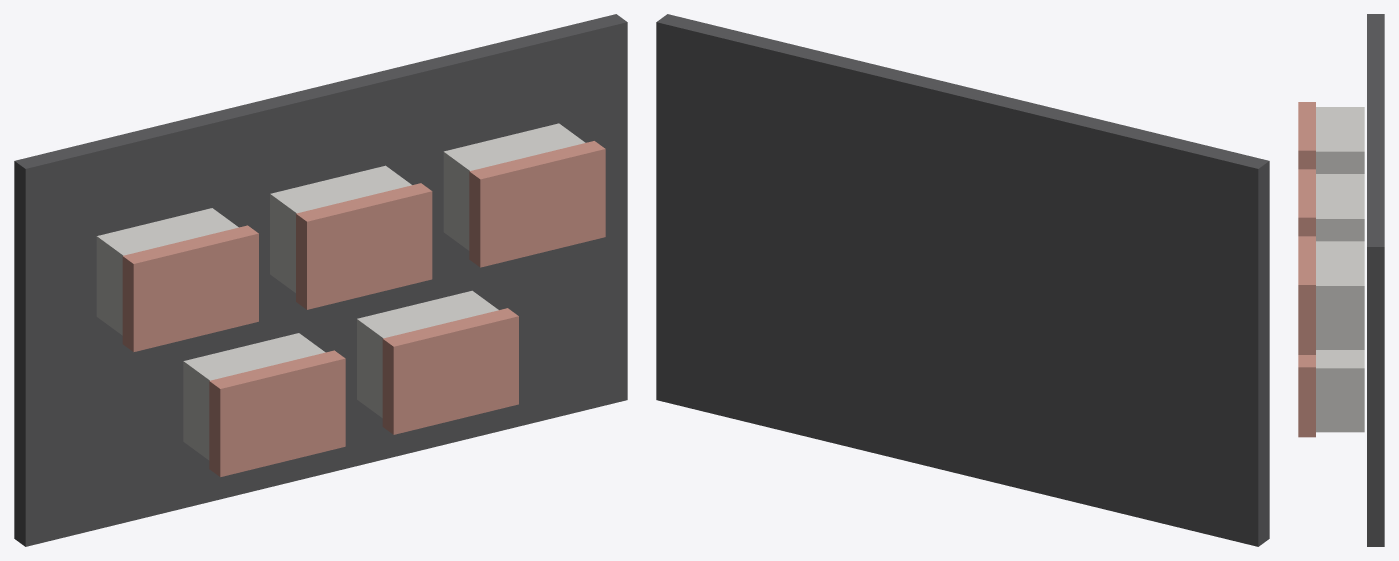
Rendered from sushi.glb.
3 renders of one model, left to right at view 1: azimuth 30°, elevation 25°; view 2: azimuth 150°, elevation 25°; view 3: azimuth 270°, elevation 25°, orthographic. The views are drawn at different scales.
Parts seen in each view (by area): view 1: plate, fish0, fish1, fish3, fish4, fish2, rice3, rice0, rice2, rice4, rice1; view 2: plate; view 3: plate, rice2, rice4, rice1, rice0, fish2, fish4, fish0, fish1.
Part boxes in pixels (<box>): plate: <box>14,14,627,546</box>; fish0: <box>122,225,258,351</box>; fish1: <box>296,183,432,309</box>; fish3: <box>209,350,345,476</box>; fish4: <box>382,308,518,434</box>; fish2: <box>469,141,605,267</box>; rice3: <box>183,333,325,460</box>; rice0: <box>96,208,238,335</box>; rice2: <box>443,123,585,250</box>; rice4: <box>357,290,498,417</box>; rice1: <box>270,165,411,292</box>; plate: <box>656,14,1269,546</box>; plate: <box>1367,14,1384,546</box>; rice2: <box>1316,241,1364,349</box>; rice4: <box>1316,350,1364,432</box>; rice1: <box>1316,174,1364,241</box>; rice0: <box>1316,107,1364,173</box>; fish2: <box>1298,236,1315,354</box>; fish4: <box>1298,355,1315,437</box>; fish0: <box>1298,102,1315,169</box>; fish1: <box>1298,169,1315,236</box>.
Size of the model in its own units: 2.5 by 1.5 by 0.39.
